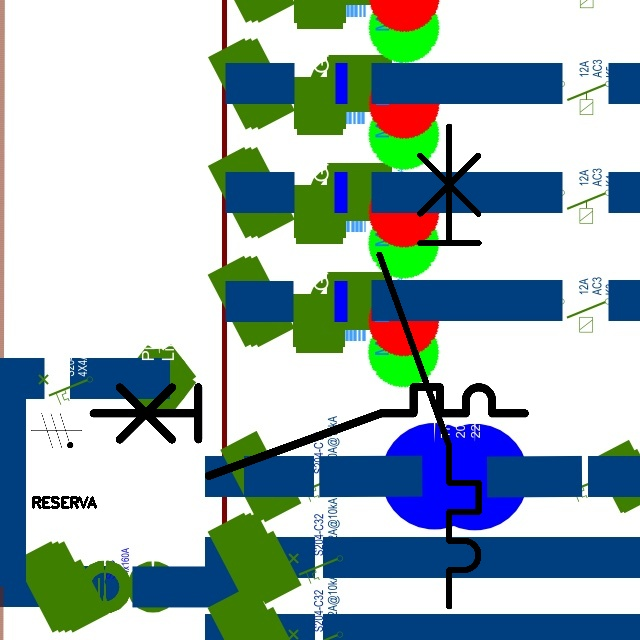interruptor_termomagnetico: (367, 114, 491, 619), (82, 376, 536, 487)
